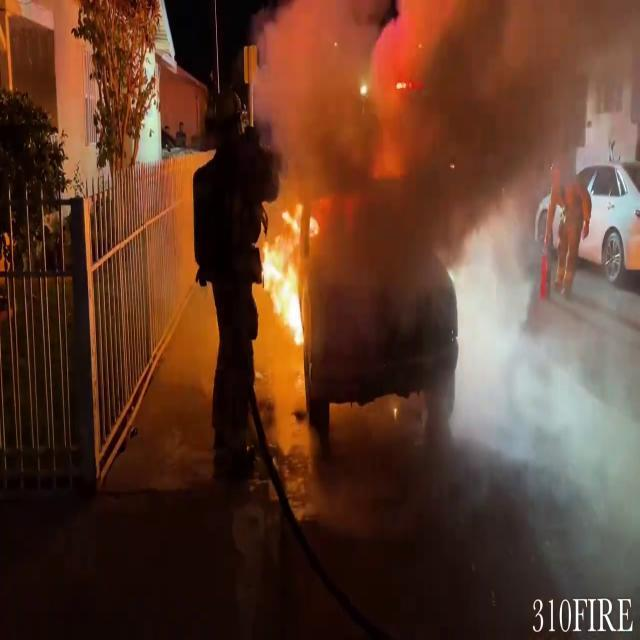Fire: (260, 200, 315, 356)
Smoke: (252, 0, 640, 206)
